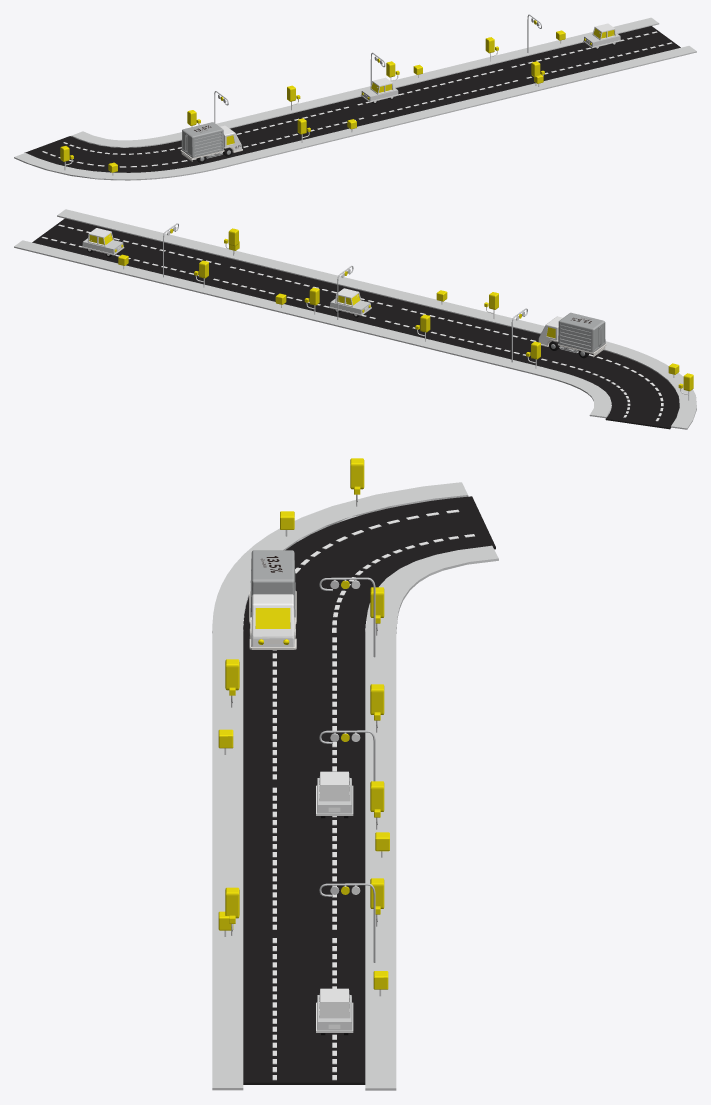
File: truck3.gltf
3 views of the same model, one above another, from view 1: azimuth 30°, elevation 25°; view 2: azimuth 150°, elevation 25°; view 3: azimuth 270°, elevation 25° (orthographic). The views are drawn at different scales.
Visible parts, largest first — view 1: 0road, 1truck, 2car; view 2: 0road, 1truck, 2car; view 3: 0road, 1truck, 2car.
Boxes of the visible parts, left/top/right/bottom form: 0road: left=14, top=14, right=696, bottom=180; 1truck: left=180, top=122, right=242, bottom=163; 2car: left=360, top=23, right=621, bottom=103; 0road: left=14, top=209, right=696, bottom=429; 1truck: left=538, top=312, right=606, bottom=358; 2car: left=81, top=228, right=371, bottom=317; 0road: left=212, top=458, right=498, bottom=1090; 1truck: left=249, top=550, right=296, bottom=649; 2car: left=316, top=771, right=353, bottom=1035.
Bounding box in the file's own units: 41.23 × 2.64 × 8.24.
18 materials, 1 textured.
